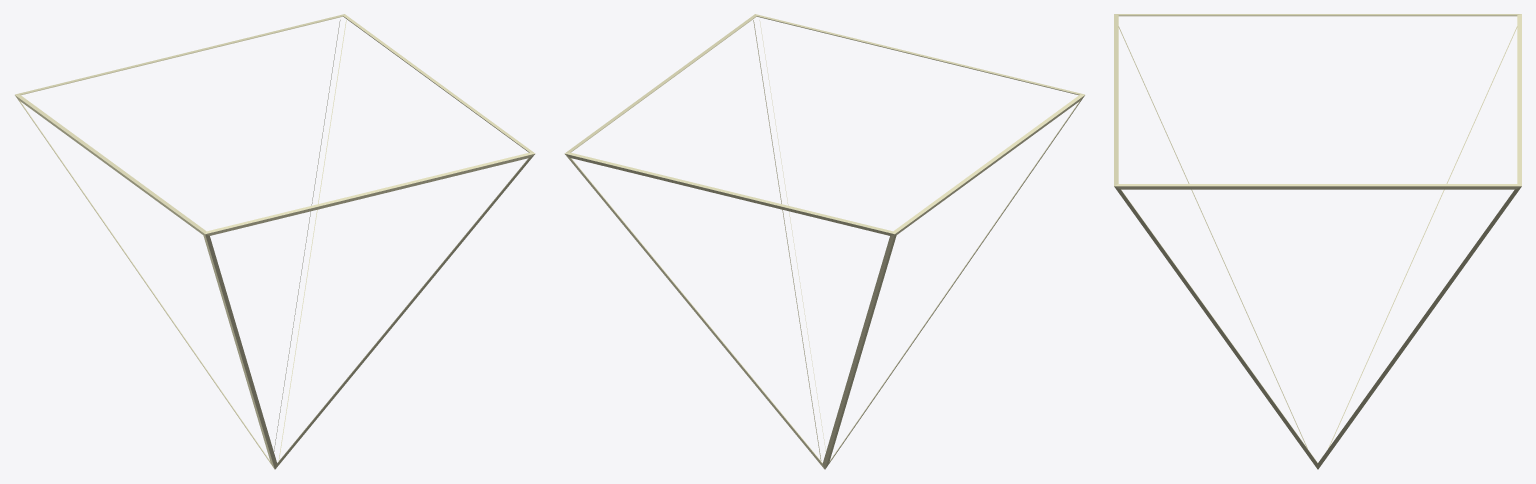
The model's file is 带边框三角.gltf.
The picture shows the model from 3 angles, left to right: view 1: azimuth 30°, elevation 25°; view 2: azimuth 150°, elevation 25°; view 3: azimuth 270°, elevation 25°; orthographic projection. The views are drawn at different scales.
Parts seen in each view (by area): view 1: WK; view 2: WK; view 3: WK.
Boxes of the visible parts, <box> form: WK: <box>15,14,535,469</box>; WK: <box>564,14,1084,469</box>; WK: <box>1114,14,1521,469</box>.
Bounding box in the file's own units: 1 × 1 × 1.
